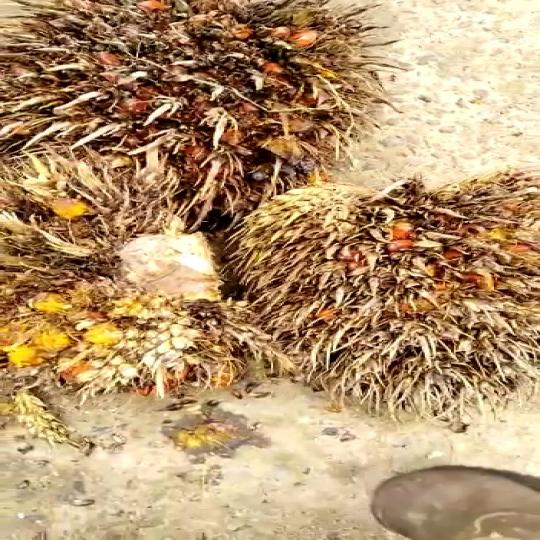terlalu masak: (218, 161, 540, 425), (0, 0, 414, 205)
